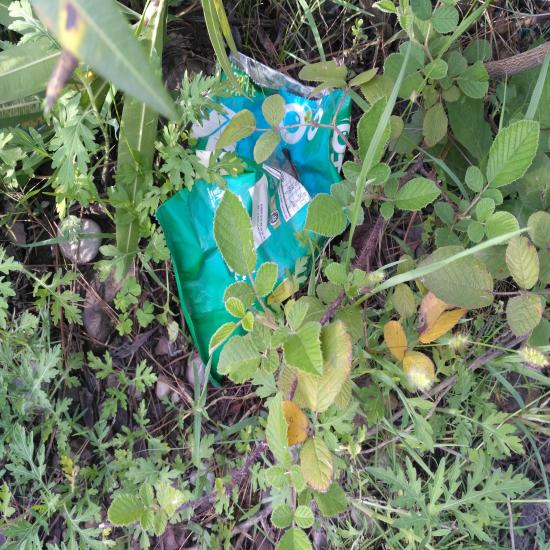Cigarette: (96, 11, 110, 27)
Disposable plastic cup: (201, 156, 272, 322)
Normal paper: (106, 0, 171, 85)
Other carton: (14, 1, 81, 165)
Paper bag: (67, 210, 178, 313)
Plastic lid: (201, 156, 273, 189)
Plastic straw: (227, 141, 244, 322)
